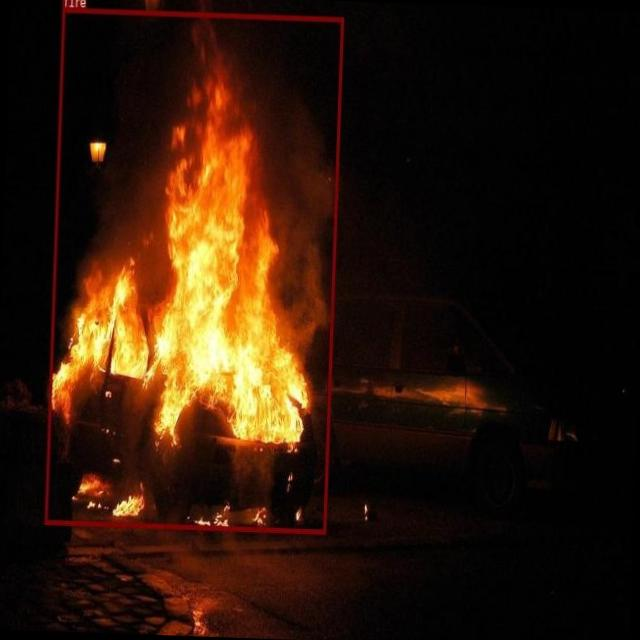fire: (44, 7, 342, 533)
